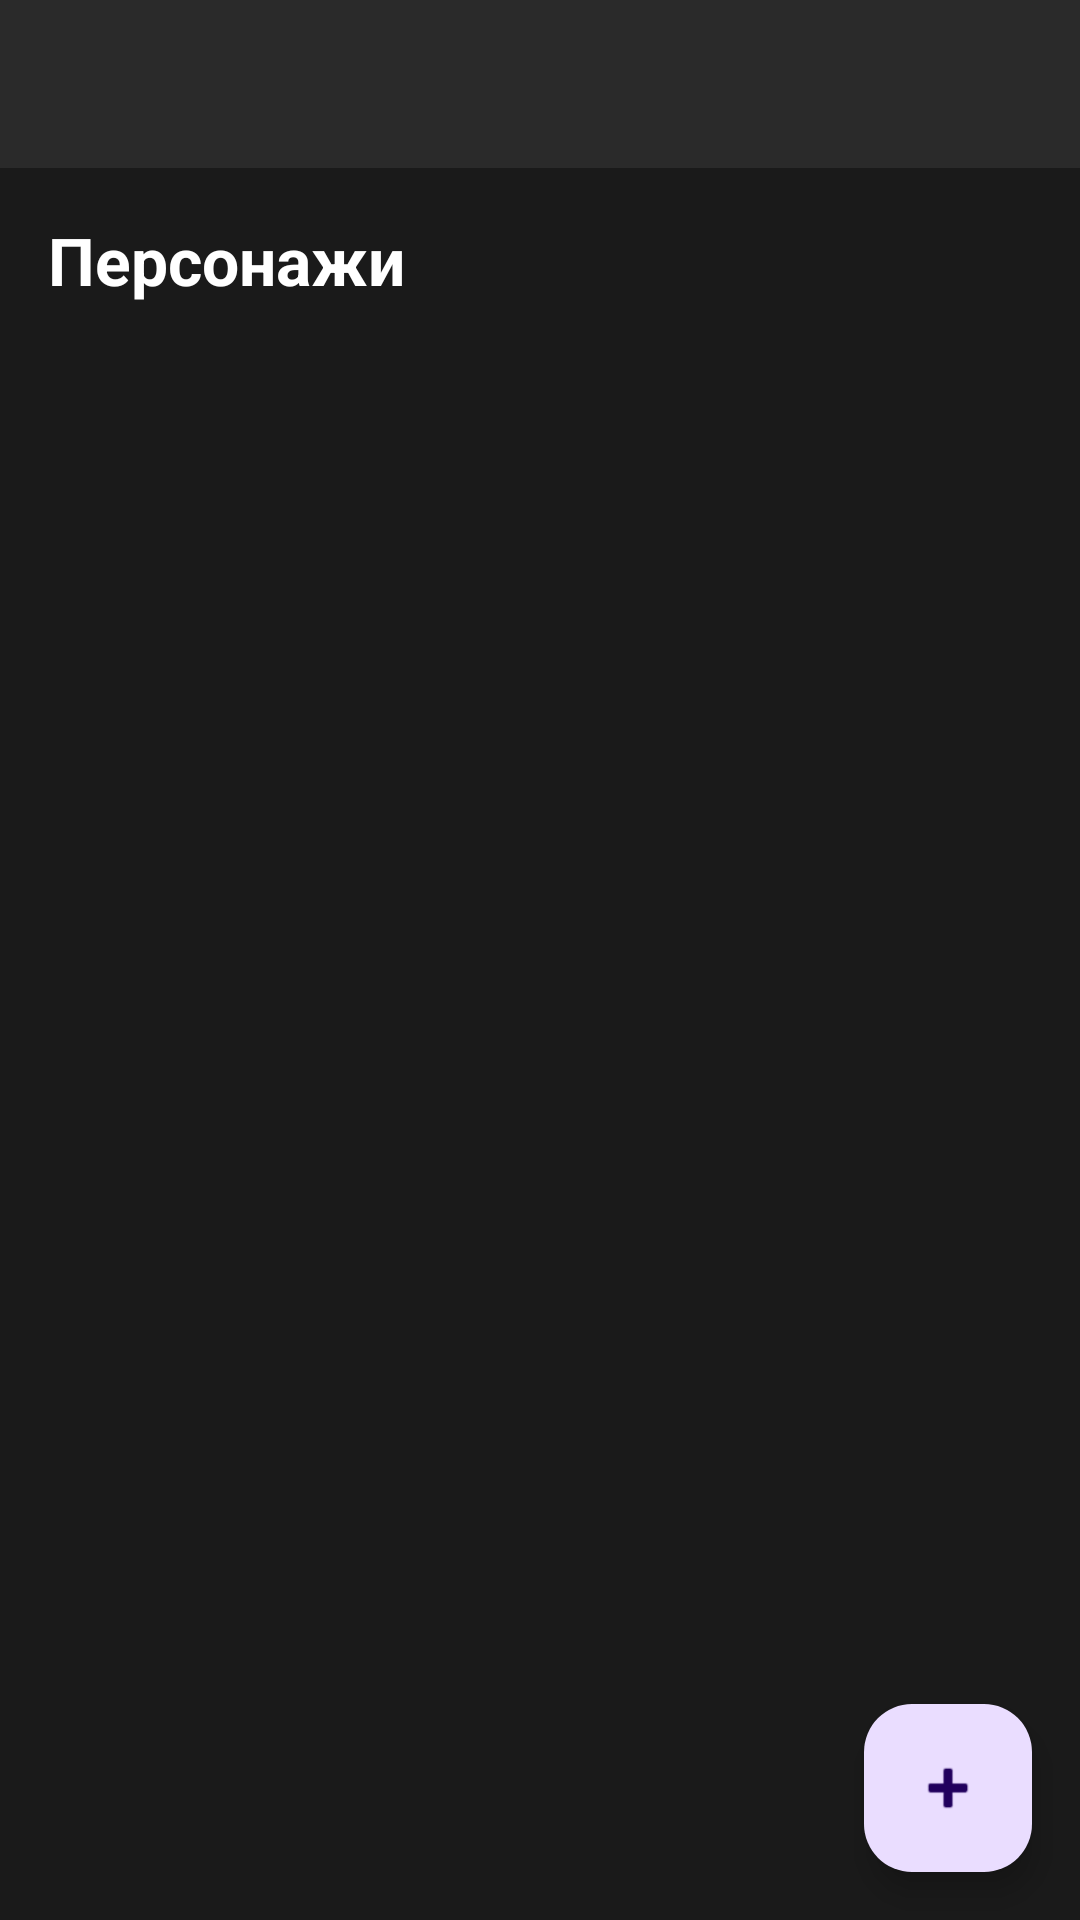

Named icons in this screenshot (1080×1920) and their centers, point (x, y):
Создать: point (948, 1788)
